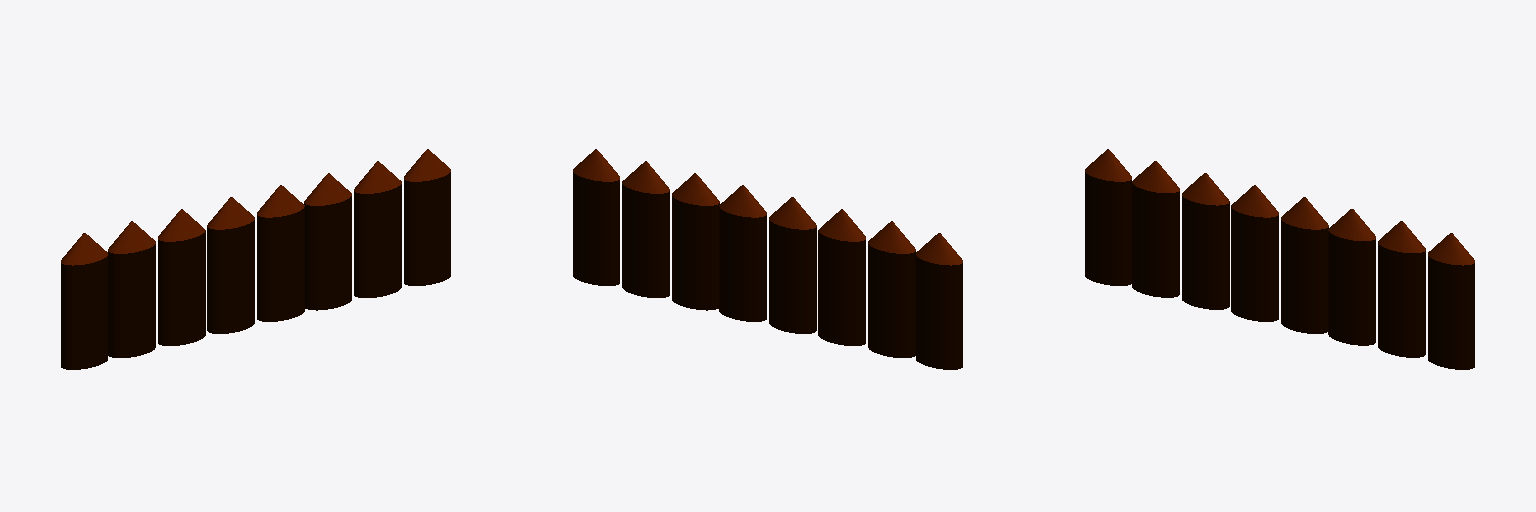
Rendered from woodcitywalls.obj.
3 renders of one model, left to right at view 1: azimuth 30°, elevation 25°; view 2: azimuth 150°, elevation 25°; view 3: azimuth 330°, elevation 25°, orthographic.
Visible parts, largest first — view 1: Circle.004_Circle.006; view 2: Circle.004_Circle.006; view 3: Circle.004_Circle.006.
Boxes of the visible parts, x1,y1,x2,y2 form: Circle.004_Circle.006: [61, 149, 450, 369]; Circle.004_Circle.006: [573, 149, 962, 369]; Circle.004_Circle.006: [1085, 149, 1474, 369].
Bounding box in the file's own units: 9.11 × 2.89 × 0.5817.